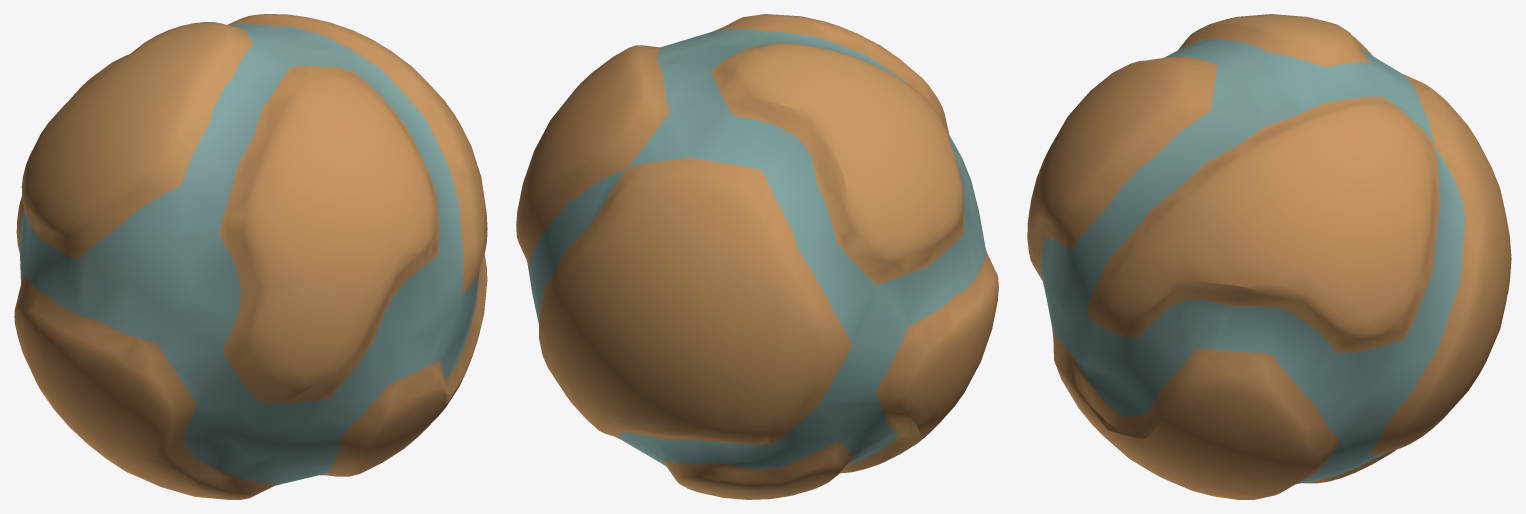
Rendered from planet-2.glb.
The picture shows the model from 3 angles, left to right: view 1: azimuth 30°, elevation 25°; view 2: azimuth 150°, elevation 25°; view 3: azimuth 270°, elevation 25°; orthographic projection.
Parts seen in each view (by area): view 1: Planet_2; view 2: Planet_2; view 3: Planet_2.
Part boxes in pixels (x1,y1,x2,y2): Planet_2: (14,14,487,499); Planet_2: (516,14,998,499); Planet_2: (1027,14,1511,499).
Bounding box in the file's own units: 3.81 × 3.82 × 3.85.
Materials: 1 (1 with a texture image).
